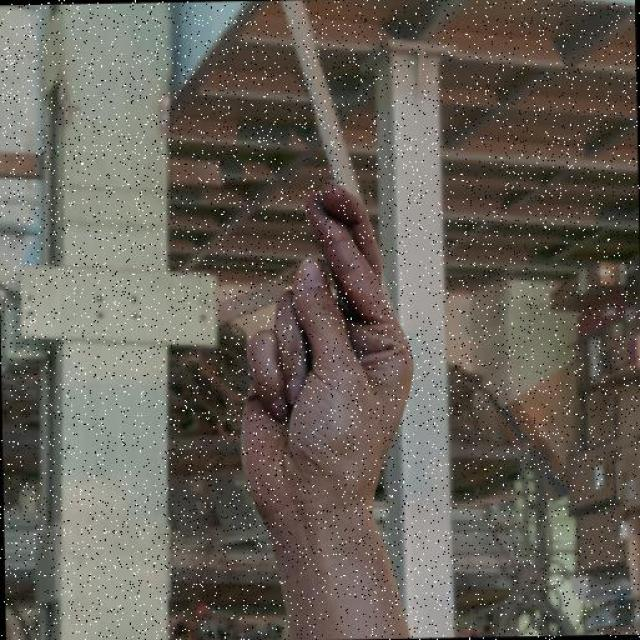R: (228, 174, 422, 537)
